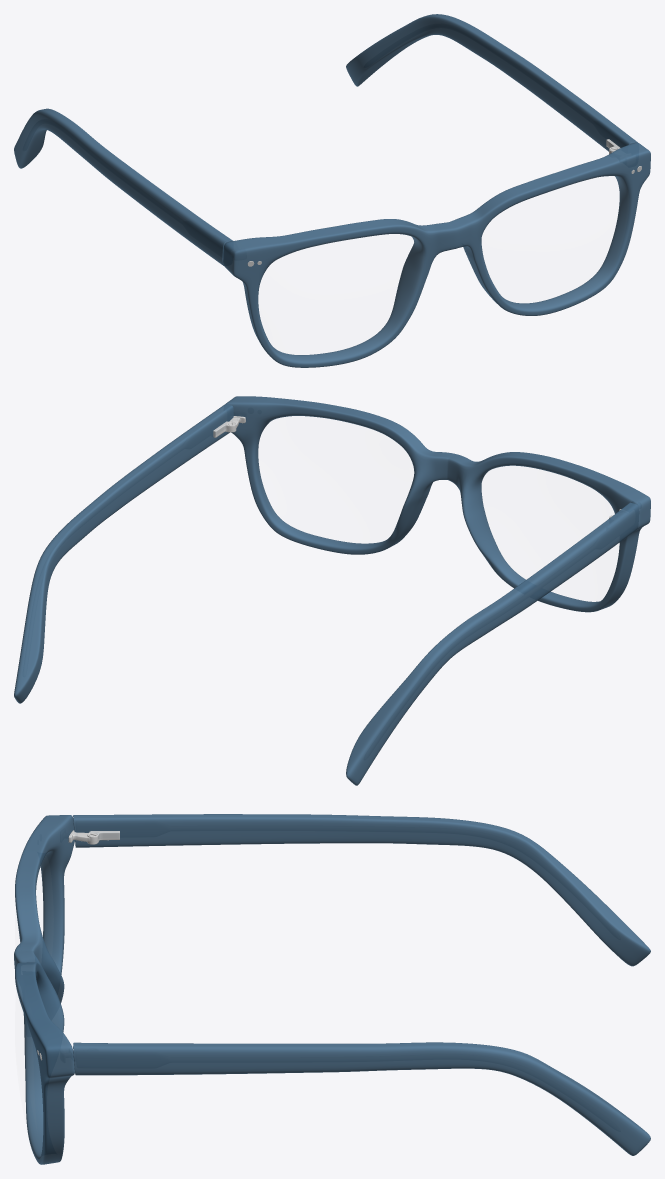
File: hector-opt-sbf-laguna-crystal-matte_medium.glb
The picture shows the model from 3 angles, top to bottom: view 1: azimuth 30°, elevation 25°; view 2: azimuth 150°, elevation 25°; view 3: azimuth 270°, elevation 25°; orthographic projection. The views are drawn at different scales.
Parts seen in each view (by area): view 1: face_front, left_temple, right_temple; view 2: face_front, right_temple, left_temple; view 3: right_temple, left_temple, face_front.
Part boxes in pixels (x1,y1,x2,y2): face_front: (223, 142, 650, 367); left_temple: (346, 14, 637, 151); right_temple: (14, 108, 232, 265); face_front: (226, 396, 650, 612); right_temple: (346, 502, 639, 785); left_temple: (14, 404, 233, 703); right_temple: (73, 814, 650, 966); left_temple: (73, 1042, 650, 1155); face_front: (14, 815, 74, 1164).
Size of the model in its own units: 0.1372 by 0.0428 by 0.1562.
